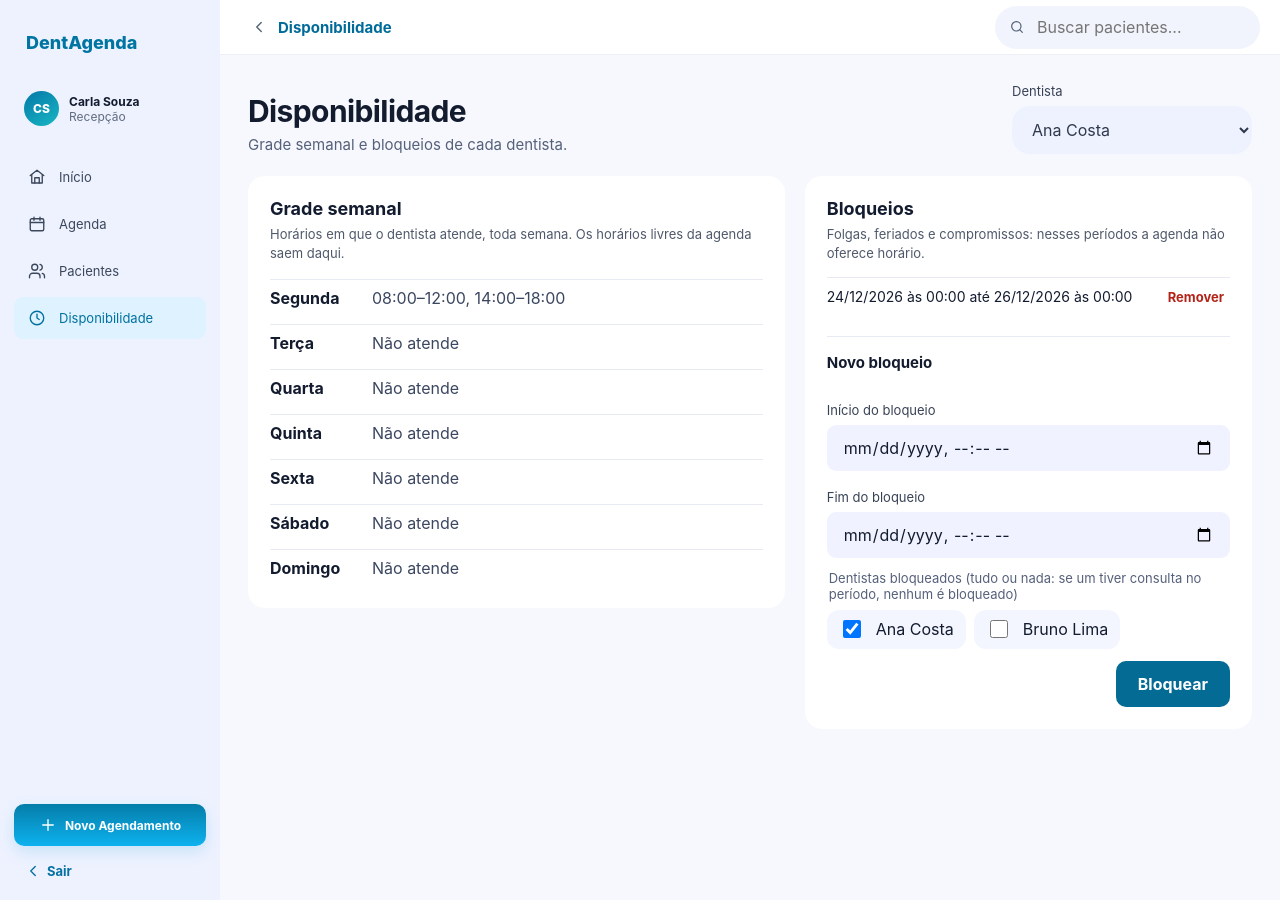
Scenario: Disponibilidade (D37) › remove um bloqueio
Click the button named "Remover bloqueio de 24/12/2026 às 00:00 até 26/12/2026 às 00:00". click: (1196, 297)
box: [1162,288,1230,306]
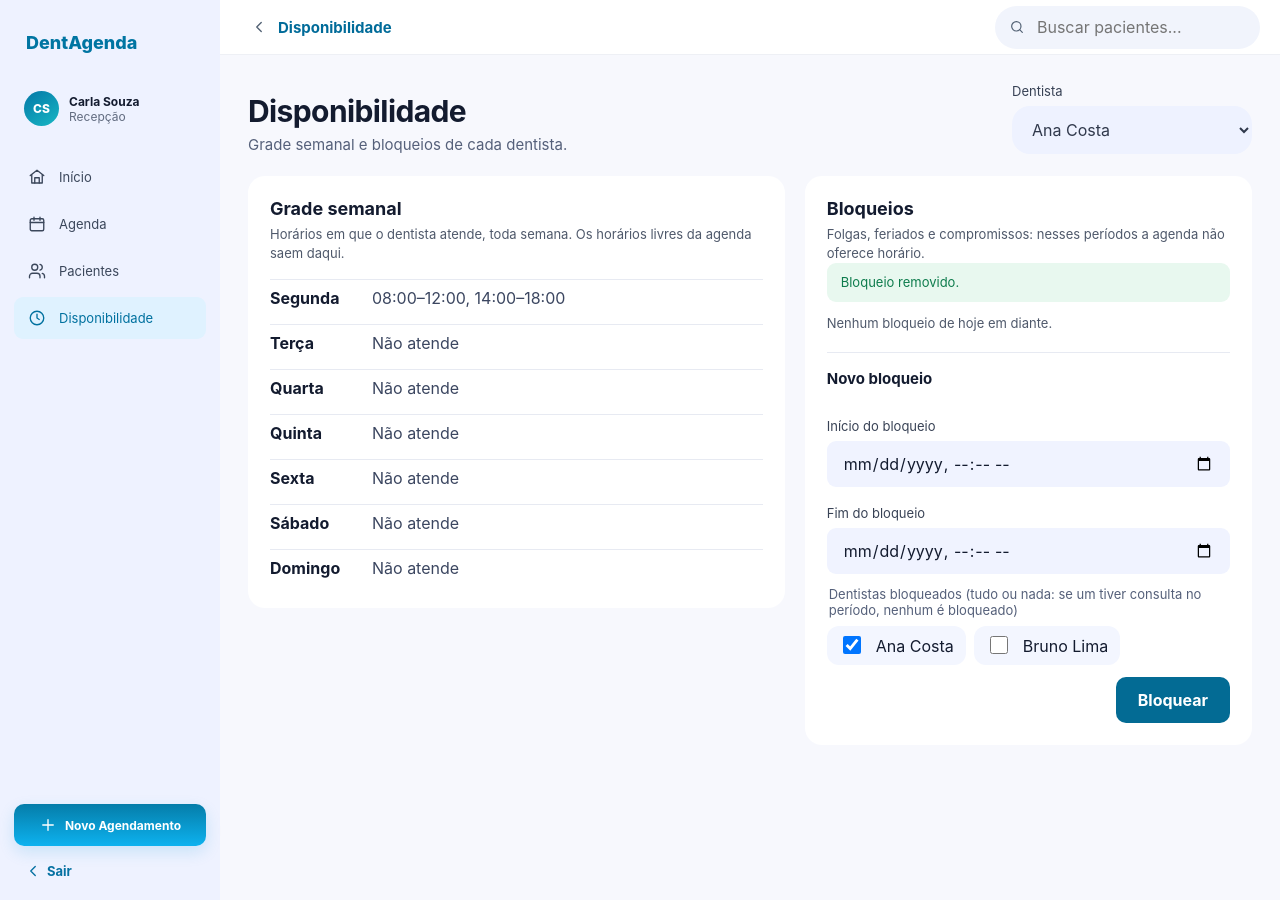
Now the text "Nenhum bloqueio de hoje em diante." is shown, box [827,314,1052,330]
